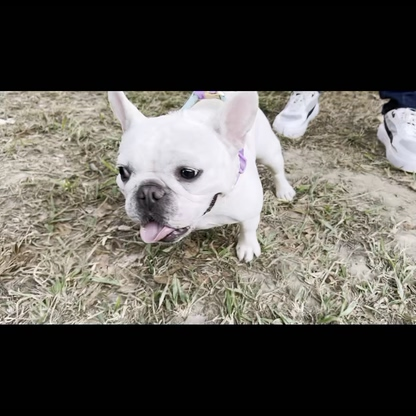bulldog: (101, 91, 301, 265)
